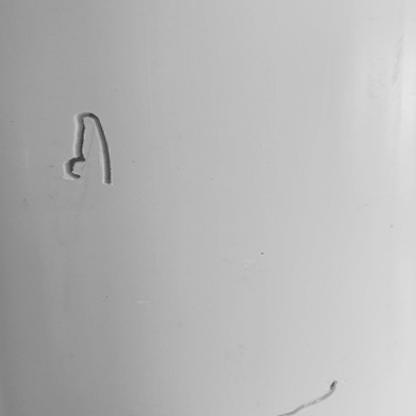fengxi: (63, 109, 111, 184), (269, 380, 341, 416)
